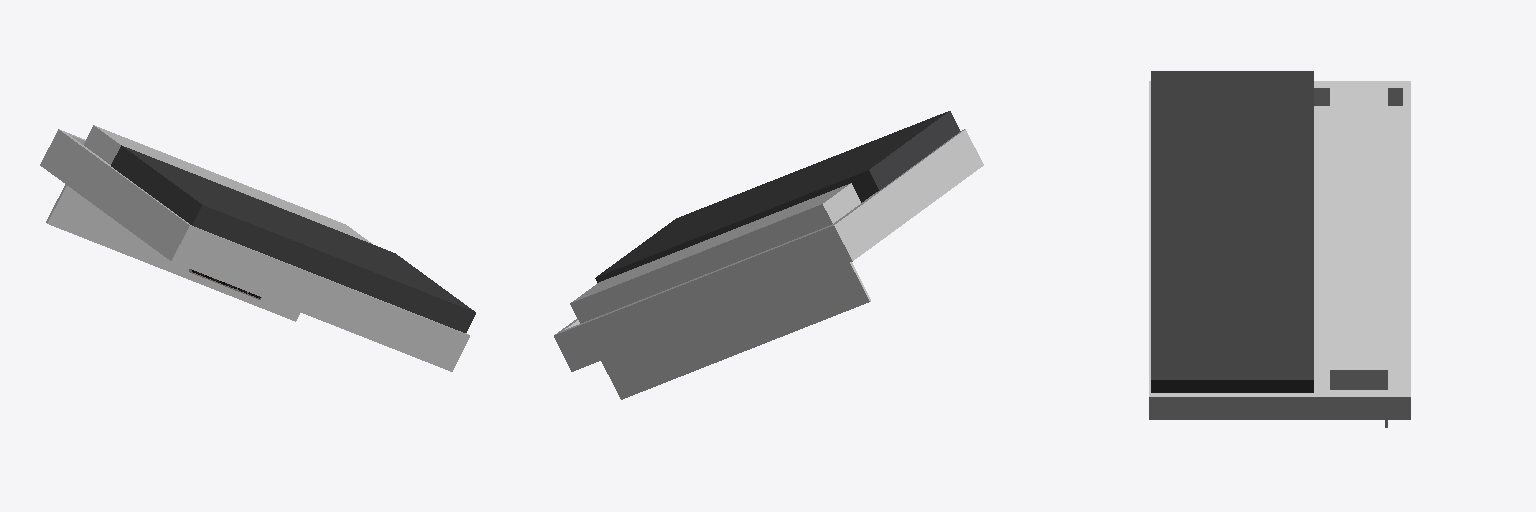
3 renders of one model, left to right at view 1: azimuth 30°, elevation 25°; view 2: azimuth 150°, elevation 25°; view 3: azimuth 270°, elevation 25°, orthographic.
Parts seen in each view (by area): view 1: 0_MT_GER_TE METALL_STAHL__GEB_RSTET, 0_MT_GER_TE STAHL__ROSTFREI FLAT_PART; view 2: 0_MT_GER_TE METALL_STAHL__GEB_RSTET, 0_MT_GER_TE STAHL__ROSTFREI FLAT_PART; view 3: 0_MT_GER_TE STAHL__ROSTFREI FLAT_PART, 0_MT_GER_TE METALL_STAHL__GEB_RSTET.
Boxes of the visible parts, box(x1,y1,x2,y2) form: 0_MT_GER_TE METALL_STAHL__GEB_RSTET: box(40, 125, 469, 371); 0_MT_GER_TE STAHL__ROSTFREI FLAT_PART: box(111, 145, 475, 332); 0_MT_GER_TE METALL_STAHL__GEB_RSTET: box(554, 129, 983, 399); 0_MT_GER_TE STAHL__ROSTFREI FLAT_PART: box(595, 111, 960, 282); 0_MT_GER_TE STAHL__ROSTFREI FLAT_PART: box(1151, 71, 1313, 392); 0_MT_GER_TE METALL_STAHL__GEB_RSTET: box(1149, 81, 1410, 427).
Bounding box in the file's own units: 176 × 137 × 128.
18 materials, 3 textured.